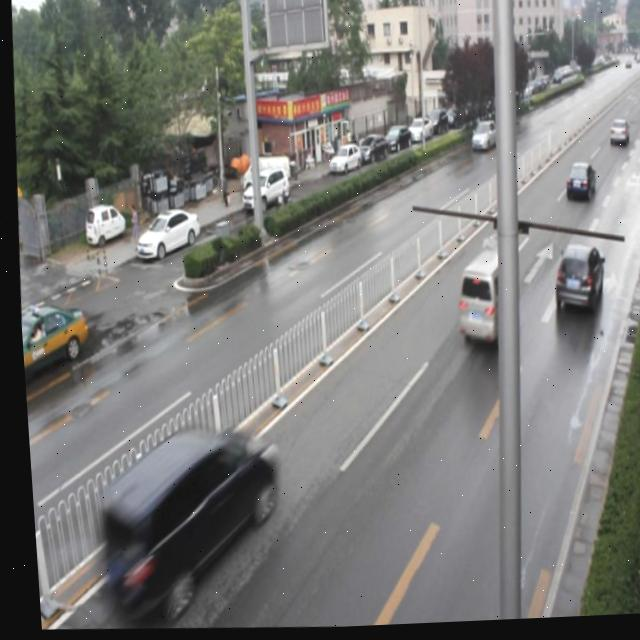car: (544, 244, 601, 322), (558, 164, 591, 205), (465, 121, 496, 157)
truck: (77, 424, 278, 605), (448, 249, 518, 353)
